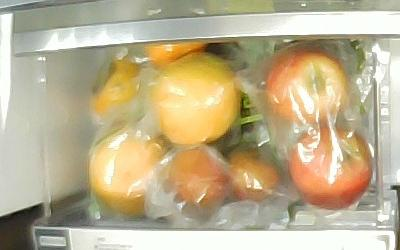apple_vinyl: (290, 128, 374, 210), (265, 48, 349, 126)
grapefruit_vinyl: (152, 52, 239, 143), (90, 131, 167, 215)
persimmon_vinyl: (93, 60, 142, 117), (146, 42, 208, 67)
prune_vinyl: (169, 149, 227, 206), (227, 149, 278, 201)
